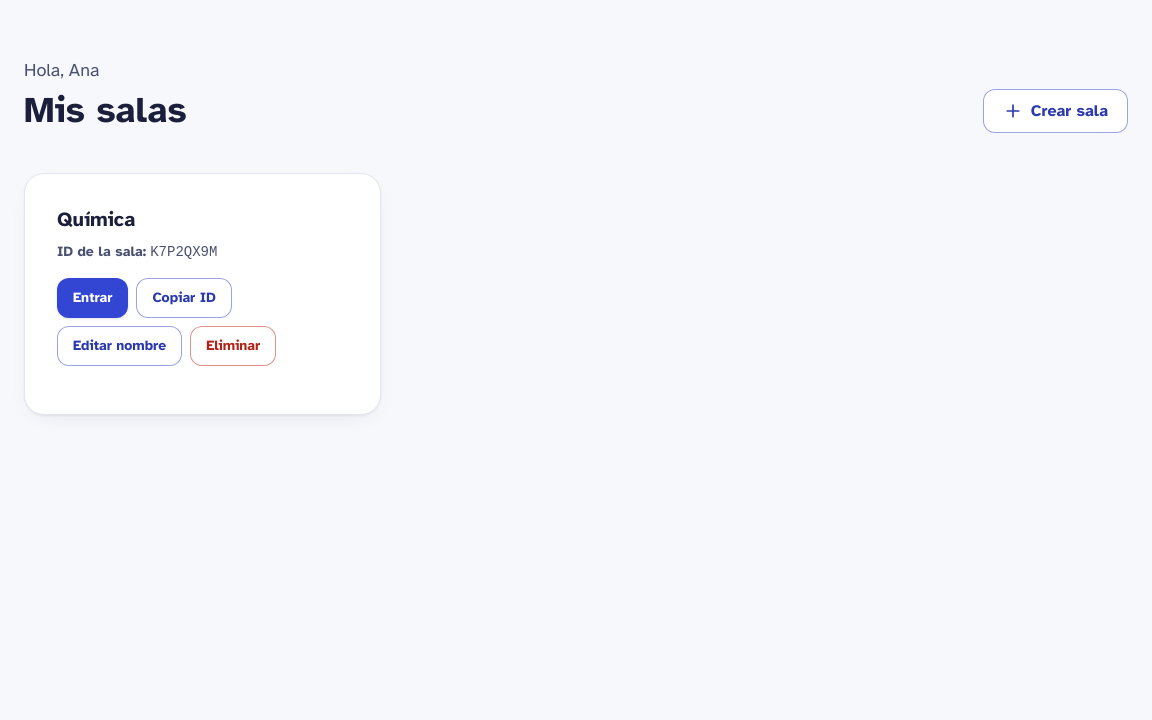
Test: si la API responde 403 lo explica y no quita la sala
Click the button with aria-label "Eliminar la sala Química".
click(233, 346)  # box [190, 326, 276, 366]
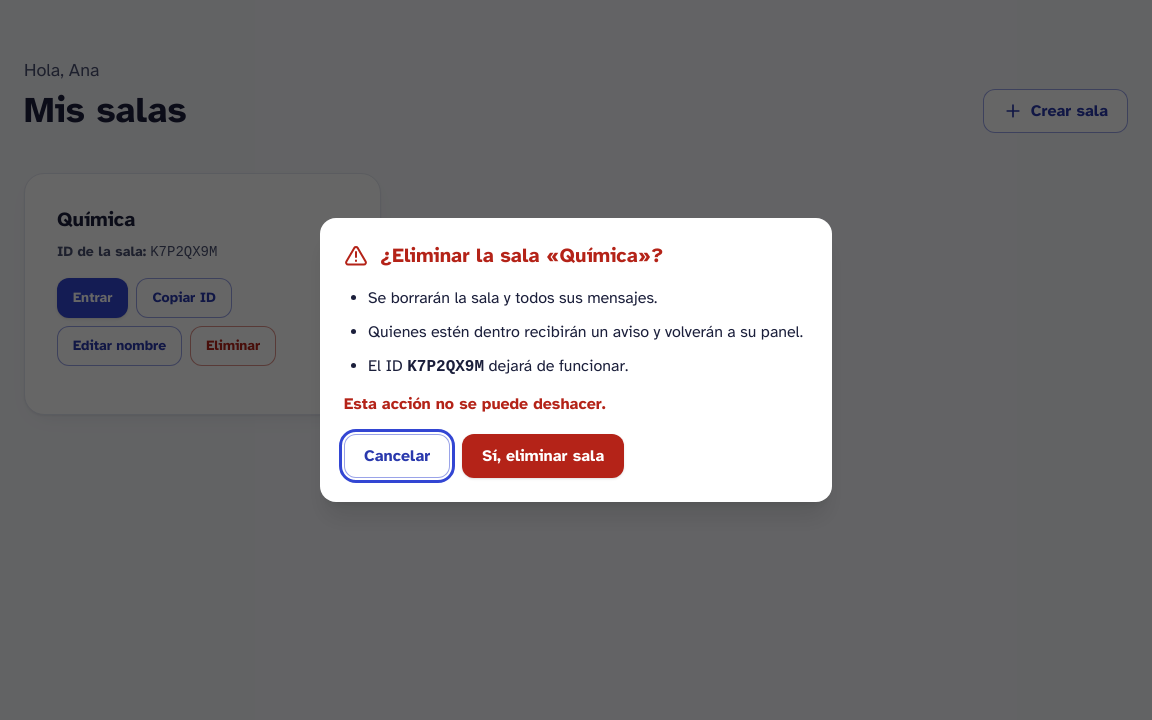
Click the button "Sí, eliminar sala".
click(543, 456)  # box [462, 434, 624, 478]
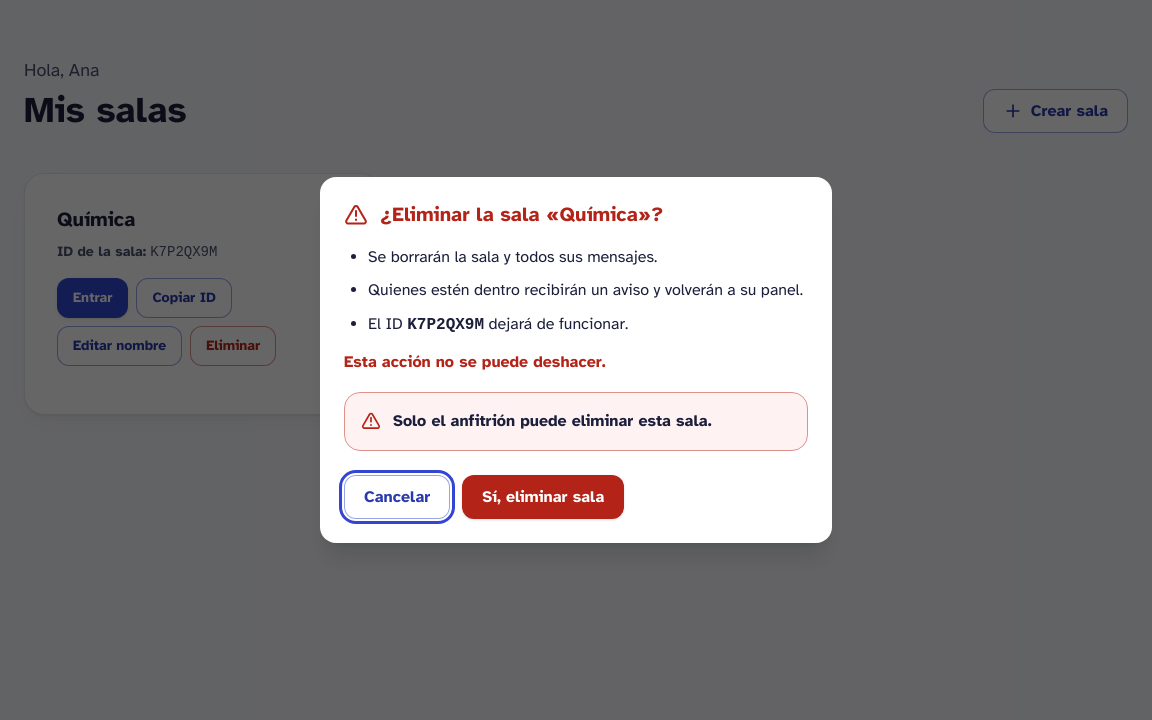
Expected: the heading "Química" is shown, [57, 207, 135, 232]
Expected: the text "Solo el anfitrión puede eliminar esta sala." is shown, [393, 411, 712, 431]
